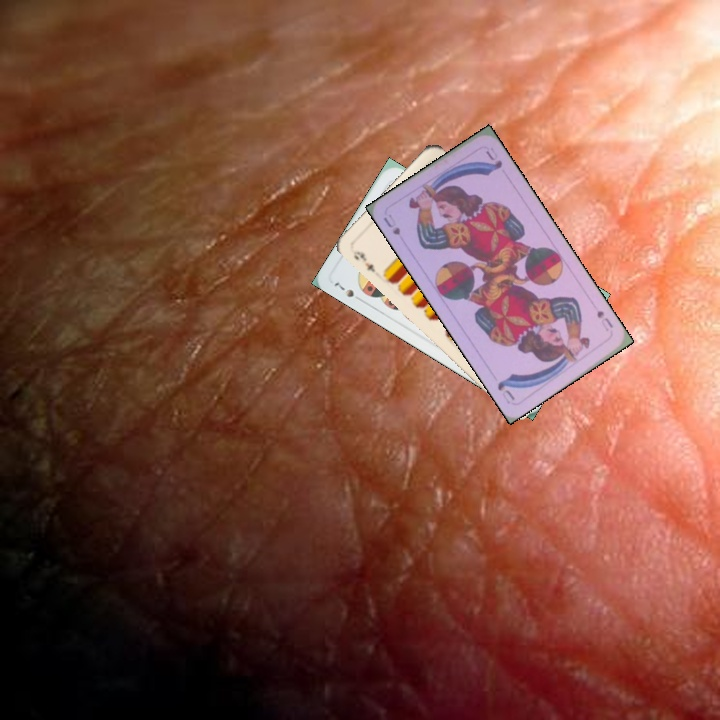E9: (349, 247, 378, 275)
S7: (330, 278, 366, 304)
SU: (379, 210, 403, 238), (593, 306, 616, 334)
